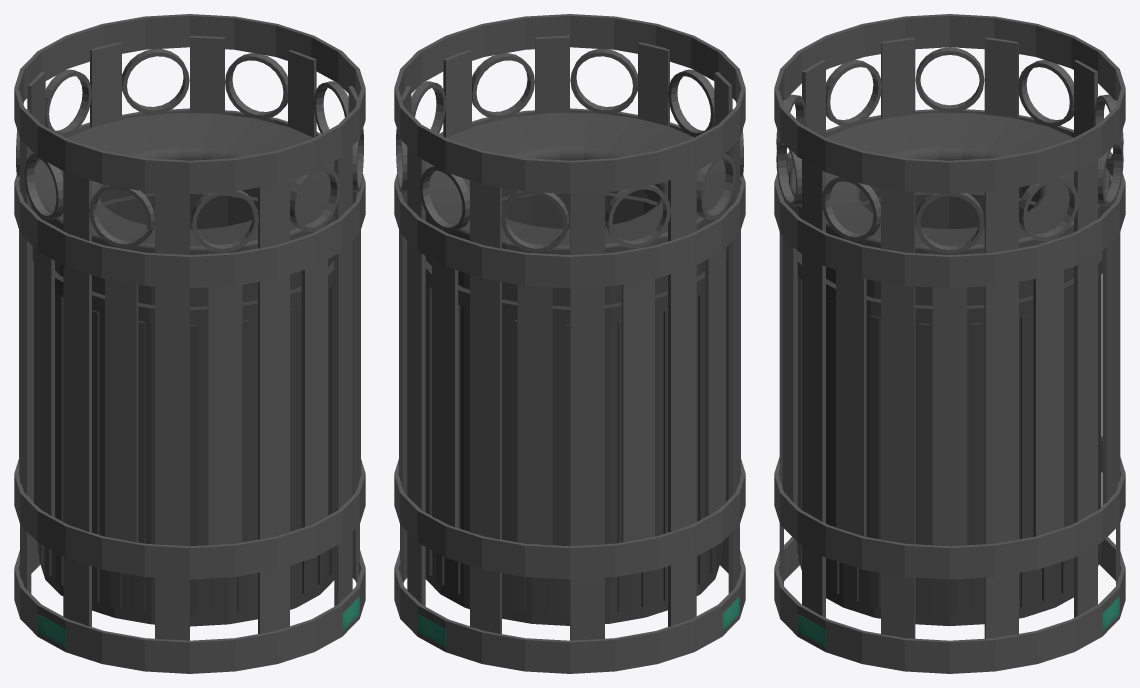
3 renders of one model, left to right at view 1: azimuth 30°, elevation 25°; view 2: azimuth 150°, elevation 25°; view 3: azimuth 270°, elevation 25°, orthographic.
Parts seen in each view (by area): view 1: mesh167_mesh167-geometry, mesh81_mesh81-geometry, mesh1_mesh1-geometry, mesh180_mesh180-geometry, mesh162_mesh162-geometry, mesh102_mesh102-geometry, mesh181_mesh181-geometry, mesh157_mesh157-geometry, mesh182_mesh182-geometry, mesh179_mesh179-geometry, mesh186_mesh186-geometry, mesh187_mesh187-geometry (+26 smaller); view 2: mesh81_mesh81-geometry, mesh167_mesh167-geometry, mesh1_mesh1-geometry, mesh173_mesh173-geometry, mesh162_mesh162-geometry, mesh102_mesh102-geometry, mesh190_mesh190-geometry, mesh157_mesh157-geometry, mesh191_mesh191-geometry, mesh184_mesh184-geometry, mesh188_mesh188-geometry, mesh174_mesh174-geometry (+26 smaller); view 3: mesh167_mesh167-geometry, mesh81_mesh81-geometry, mesh1_mesh1-geometry, mesh189_mesh189-geometry, mesh172_mesh172-geometry, mesh162_mesh162-geometry, mesh157_mesh157-geometry, mesh102_mesh102-geometry, mesh175_mesh175-geometry, mesh187_mesh187-geometry, mesh174_mesh174-geometry, mesh185_mesh185-geometry (+28 smaller).
Boxes of the visible parts, x1,y1,x2,y2 form: mesh167_mesh167-geometry: (14,14,365,193); mesh81_mesh81-geometry: (32,187,334,626); mesh1_mesh1-geometry: (31,113,334,254); mesh180_mesh180-geometry: (155,192,189,640); mesh162_mesh162-geometry: (14,108,365,288); mesh102_mesh102-geometry: (14,459,365,579); mesh181_mesh181-geometry: (258,180,289,633); mesh157_mesh157-geometry: (14,550,365,673); mesh182_mesh182-geometry: (63,171,91,626); mesh179_mesh179-geometry: (207,285,242,545); mesh186_mesh186-geometry: (105,279,138,542); mesh187_mesh187-geometry: (334,146,352,606); mesh81_mesh81-geometry: (425,187,727,625); mesh167_mesh167-geometry: (394,14,745,193); mesh1_mesh1-geometry: (425,112,728,254); mesh173_mesh173-geometry: (570,192,604,640); mesh162_mesh162-geometry: (394,108,745,288); mesh102_mesh102-geometry: (394,459,745,579); mesh190_mesh190-geometry: (470,180,501,633); mesh157_mesh157-geometry: (394,550,745,673); mesh191_mesh191-geometry: (668,171,696,626); mesh184_mesh184-geometry: (517,285,552,545); mesh188_mesh188-geometry: (621,279,654,542); mesh174_mesh174-geometry: (407,146,425,606); mesh167_mesh167-geometry: (774,14,1125,193); mesh81_mesh81-geometry: (797,185,1102,626); mesh1_mesh1-geometry: (789,112,1110,254); mesh189_mesh189-geometry: (881,187,915,638); mesh172_mesh172-geometry: (984,187,1018,638); mesh162_mesh162-geometry: (774,109,1125,288); mesh157_mesh157-geometry: (774,537,1125,673); mesh102_mesh102-geometry: (774,436,1125,579); mesh175_mesh175-geometry: (932,287,967,546); mesh187_mesh187-geometry: (802,159,825,617); mesh174_mesh174-geometry: (1074,159,1097,617); mesh185_mesh185-geometry: (1033,270,1063,536).
Bounding box in the file's own units: 0.4678 × 0.7502 × 0.4674.
